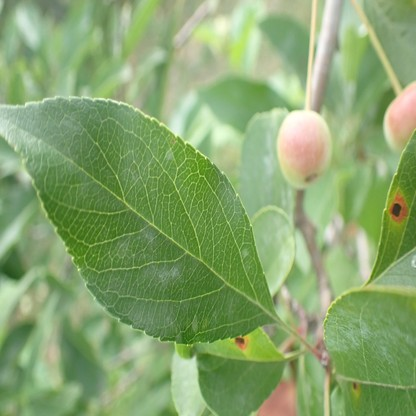powder: (325, 305, 416, 362), (130, 304, 176, 333), (146, 267, 178, 282), (144, 229, 156, 244), (192, 314, 198, 332), (166, 149, 173, 158), (241, 250, 249, 257)
rust: (390, 189, 409, 226), (234, 334, 248, 349), (352, 381, 360, 396)
